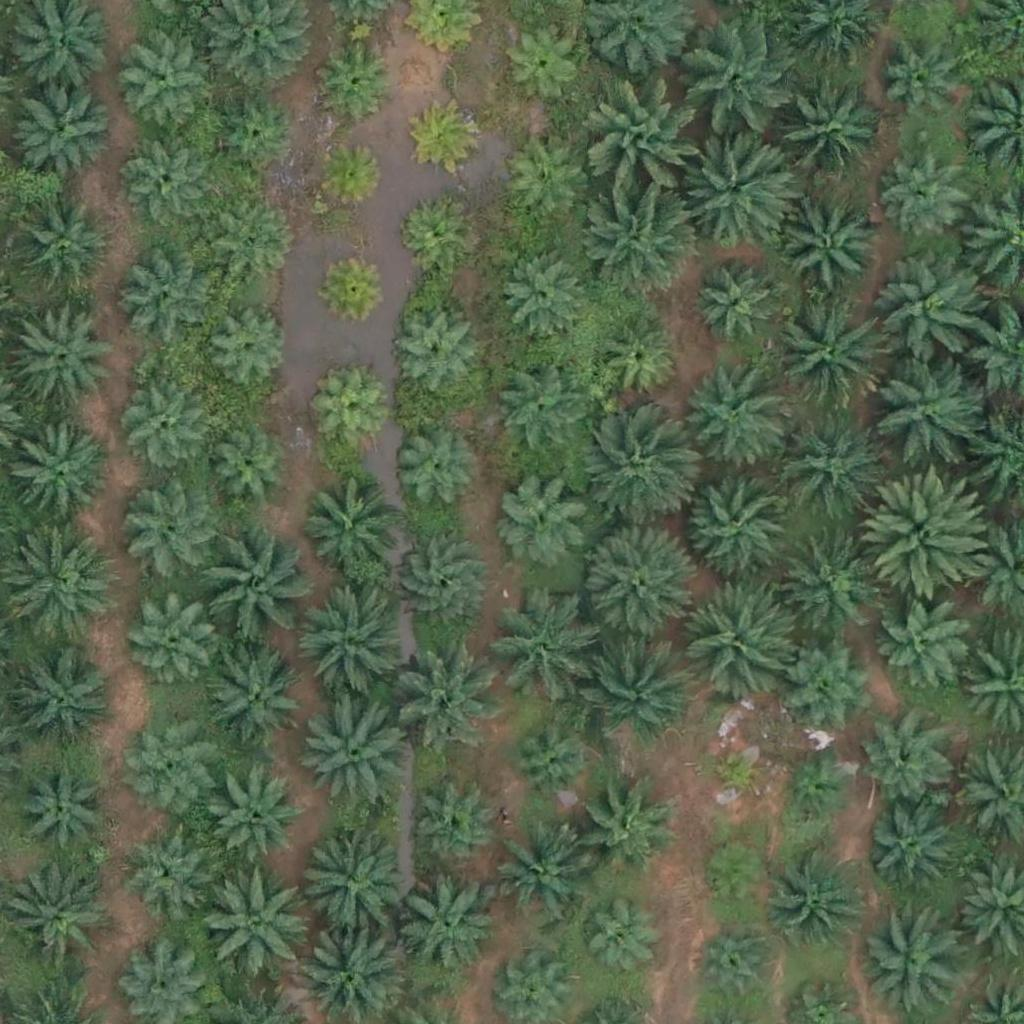Kelapa_Sawit: (866, 472, 991, 598), (868, 350, 981, 464), (292, 693, 405, 807), (769, 79, 882, 193), (770, 298, 883, 411), (774, 410, 887, 523), (681, 465, 794, 578), (578, 526, 691, 639), (289, 824, 402, 937), (1, 423, 114, 536), (2, 532, 115, 645), (686, 25, 799, 138), (585, 183, 698, 296), (875, 256, 988, 369), (578, 628, 690, 742), (295, 589, 407, 703), (197, 866, 309, 980), (591, 87, 703, 201), (674, 366, 786, 479), (679, 583, 791, 696), (576, 417, 688, 530), (389, 634, 501, 747), (193, 528, 305, 641), (681, 130, 793, 243), (778, 531, 878, 632), (780, 632, 880, 733), (572, 780, 672, 881), (486, 829, 586, 930), (486, 601, 586, 702), (396, 877, 496, 978), (299, 477, 399, 578), (202, 645, 302, 746), (123, 482, 223, 583), (12, 302, 112, 403), (6, 875, 106, 976), (781, 195, 881, 296), (13, 77, 113, 178), (12, 194, 112, 295), (119, 246, 219, 347), (771, 846, 871, 947), (863, 911, 963, 1011), (493, 467, 593, 567), (391, 535, 491, 635), (13, 650, 112, 751), (860, 719, 948, 807), (593, 316, 681, 404), (507, 718, 595, 806), (388, 309, 476, 397), (214, 778, 302, 866), (114, 381, 202, 469), (210, 89, 298, 177), (210, 207, 298, 295), (693, 261, 781, 349), (496, 17, 584, 105), (501, 140, 589, 228), (120, 45, 208, 133), (121, 137, 209, 225), (863, 806, 950, 895), (493, 366, 580, 455), (878, 599, 965, 687), (695, 921, 782, 1009), (390, 425, 477, 513), (412, 787, 499, 875), (206, 305, 293, 393), (203, 429, 290, 517), (117, 824, 204, 912), (126, 712, 213, 800), (129, 597, 216, 685), (20, 763, 107, 851), (879, 50, 966, 138), (884, 155, 971, 243), (500, 249, 587, 337), (395, 195, 470, 271), (578, 904, 653, 980), (779, 752, 854, 828), (698, 839, 773, 915), (312, 375, 387, 451), (317, 248, 392, 324), (410, 99, 485, 175), (320, 41, 395, 116), (312, 138, 387, 213), (705, 740, 767, 803)
